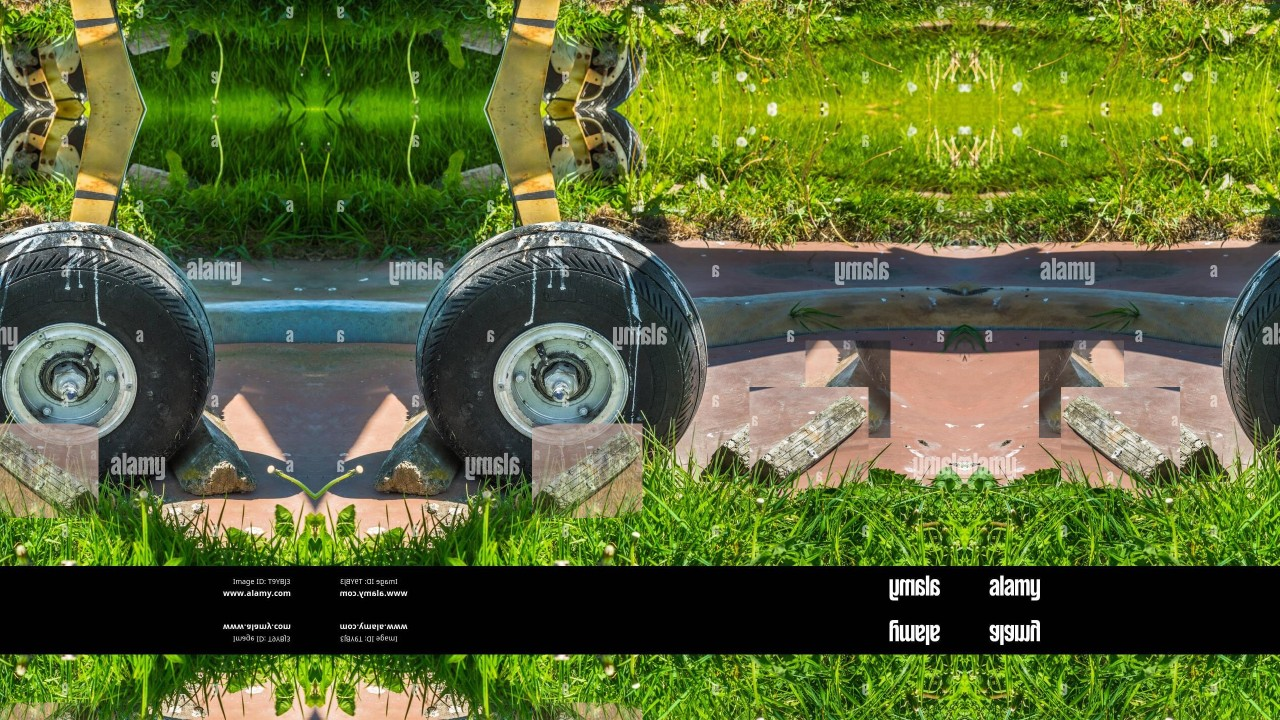chock: (709, 362, 848, 480), (1082, 362, 1221, 480), (749, 387, 868, 488), (1061, 387, 1180, 488), (532, 423, 642, 518), (0, 423, 98, 518), (170, 398, 257, 498), (373, 398, 460, 498), (1040, 340, 1125, 438), (806, 340, 890, 438), (532, 703, 642, 720), (0, 703, 98, 720)
wheel: (416, 222, 708, 483), (0, 222, 214, 483), (1222, 222, 1280, 483)
